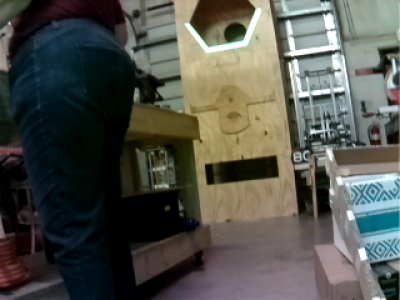target: (184, 7, 264, 53)
